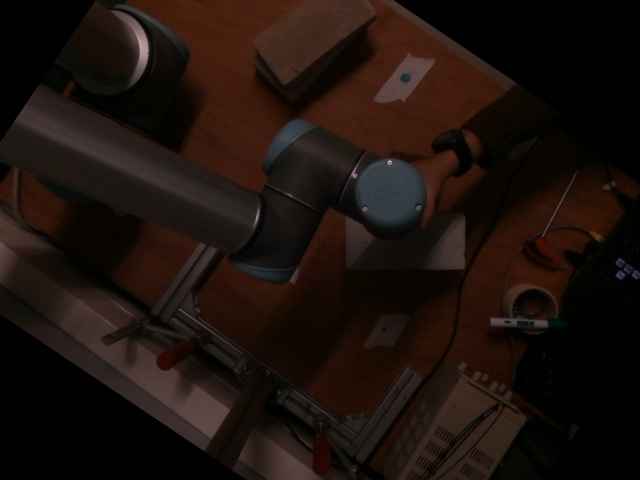brick: (252, 0, 375, 81)
